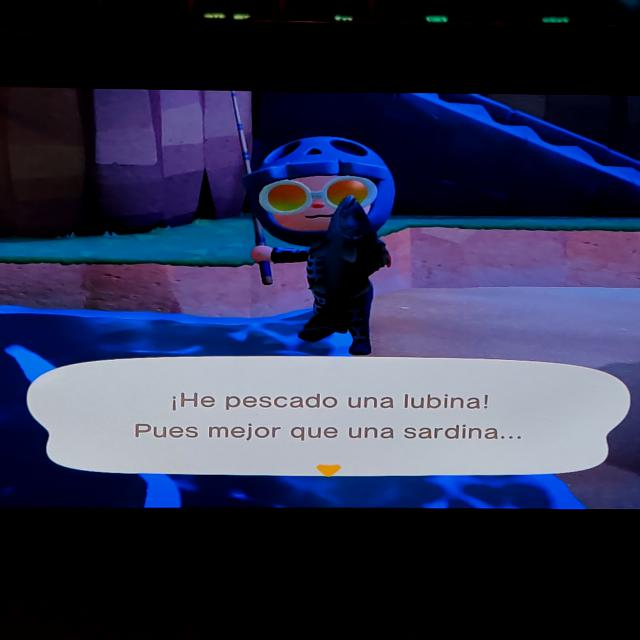text_bubble: (24, 355, 635, 482)
